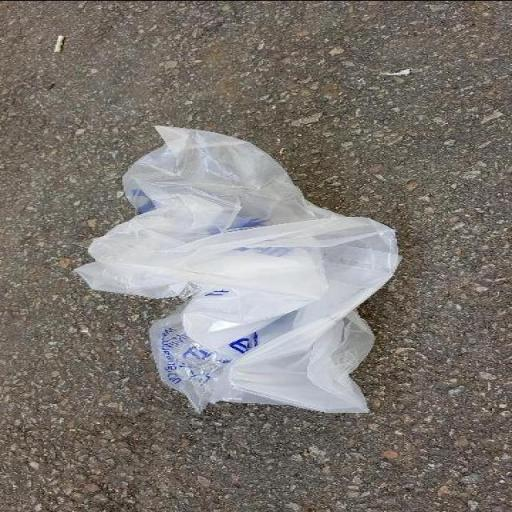plastic-bag: (71, 124, 403, 417)
